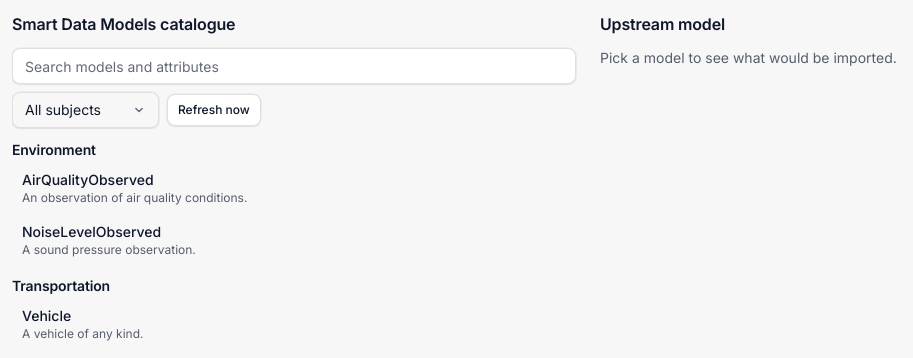
Test case: Smart Data Models import wizard › filters by subject
Expected: the button "AirQualityObserved An observation of air quality conditions." is shown, [12, 164, 576, 212]
Select "Transportation" in the dropdown named "Subject" at (86, 110), box [12, 92, 159, 128]
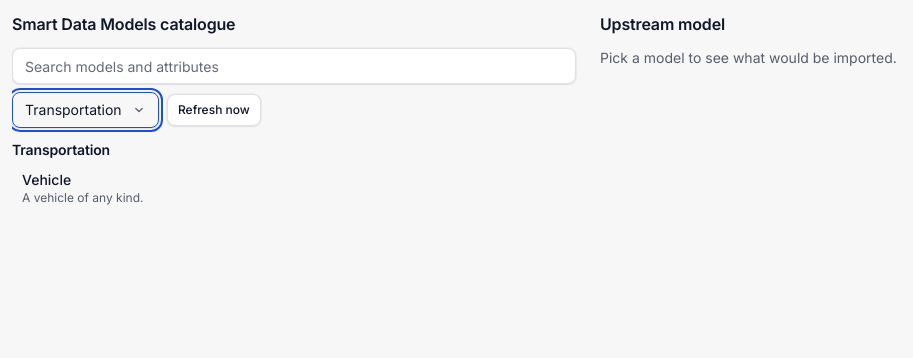
Expected: the button "Vehicle A vehicle of any kind." is shown, [12, 164, 576, 212]
Result: the button "AirQualityObserved" is gone
